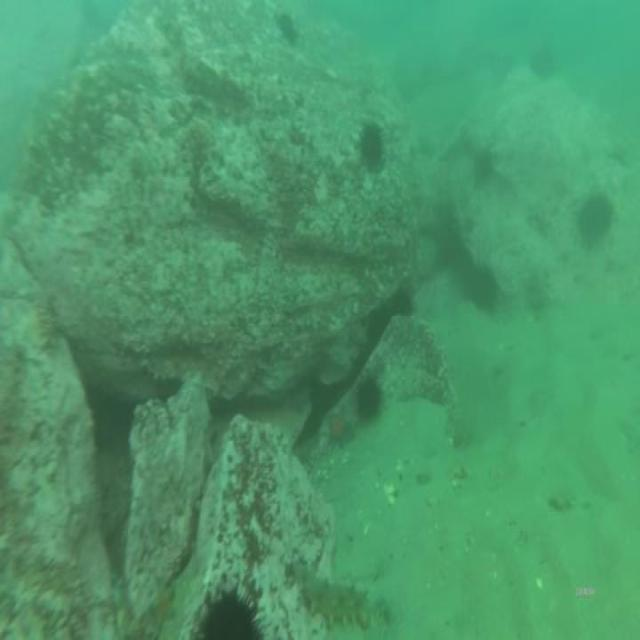echinus: (194, 584, 268, 640), (580, 184, 615, 244), (358, 115, 388, 177), (354, 371, 381, 430), (476, 259, 500, 313), (275, 11, 305, 49), (471, 141, 493, 188)
holothurian: (292, 562, 375, 634)
starfish: (149, 581, 179, 629), (327, 403, 353, 450)
